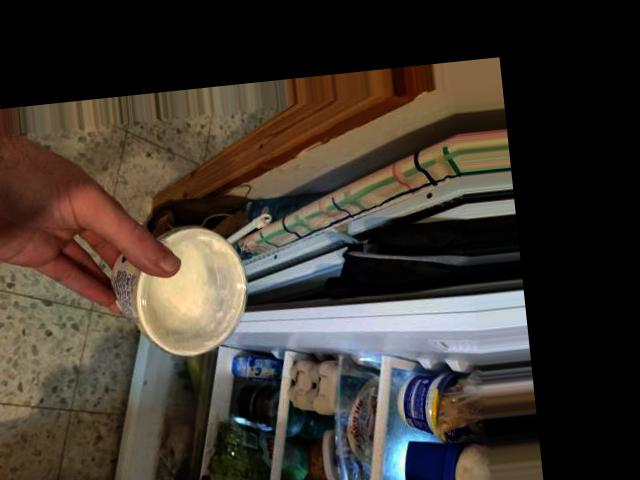cotage: (109, 220, 240, 329)
